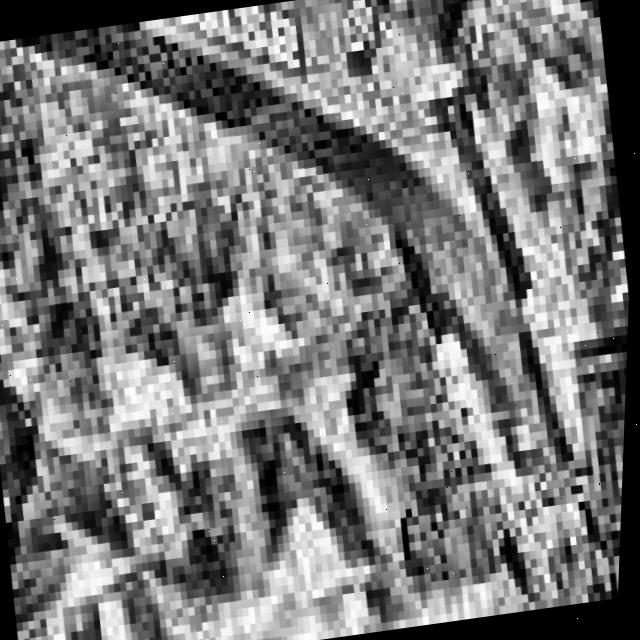excavator: (254, 242, 633, 640)
